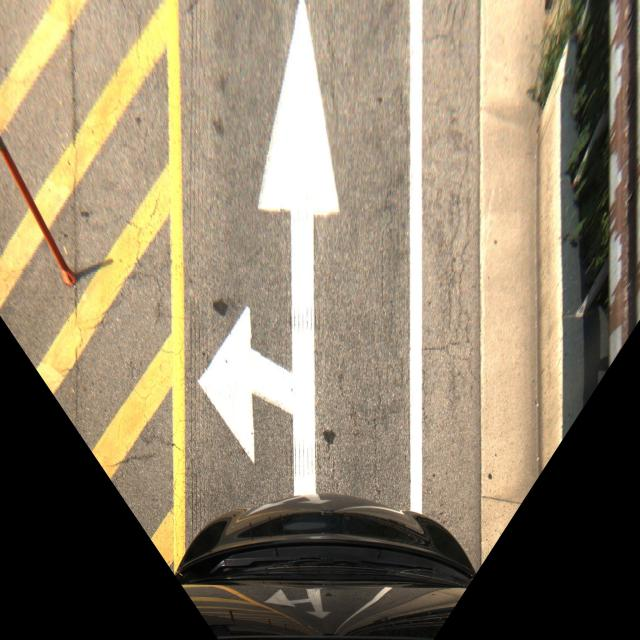forward_left: (176, 0, 430, 499)
